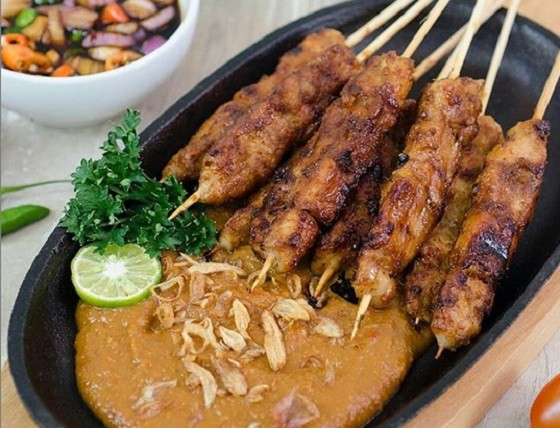sate: (148, 8, 548, 368)
